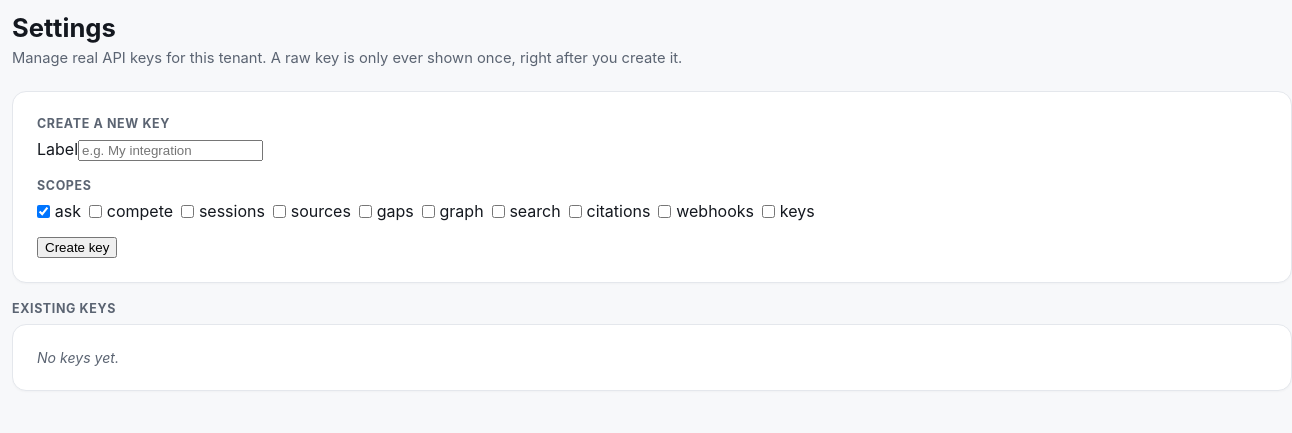
Test case: SettingsPage › shows a real error, never silently swallows a failed create
Type "New key" into the field labelled "Label" at (170,150), box [78,140,263,161]
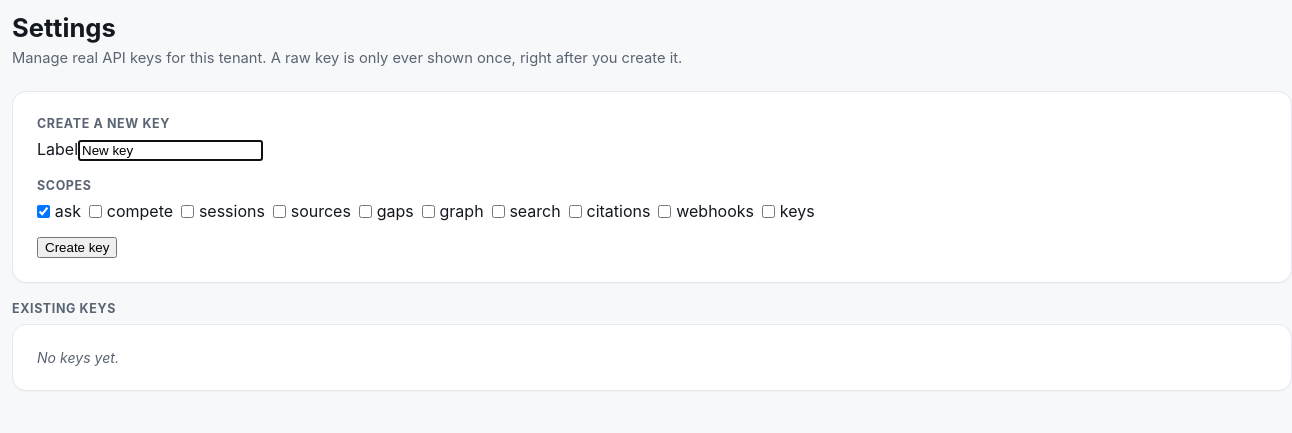
Click the button "Create key" at (77,248), box [37,237,118,258]
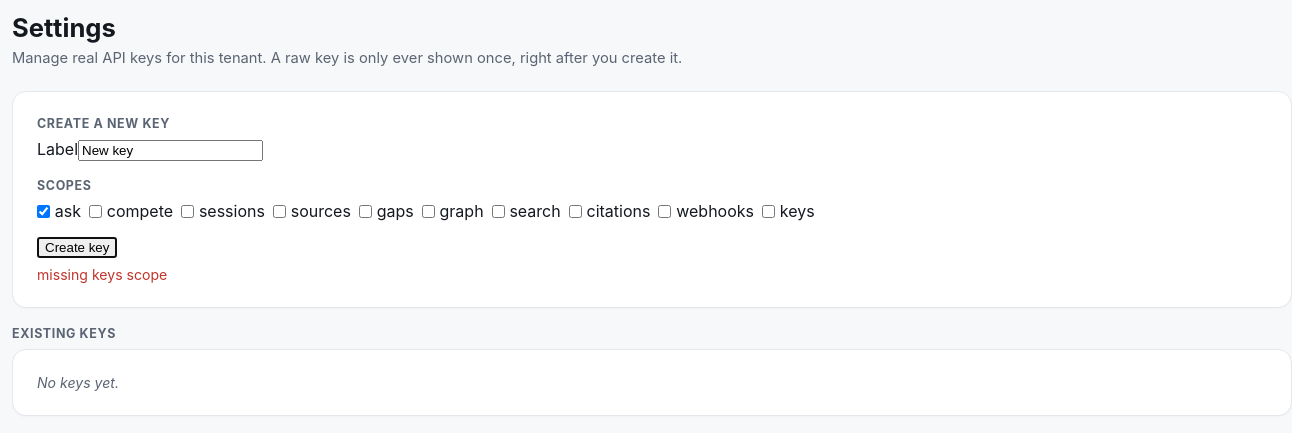
Expected: the text "missing keys scope" is shown, [37,266,167,283]
